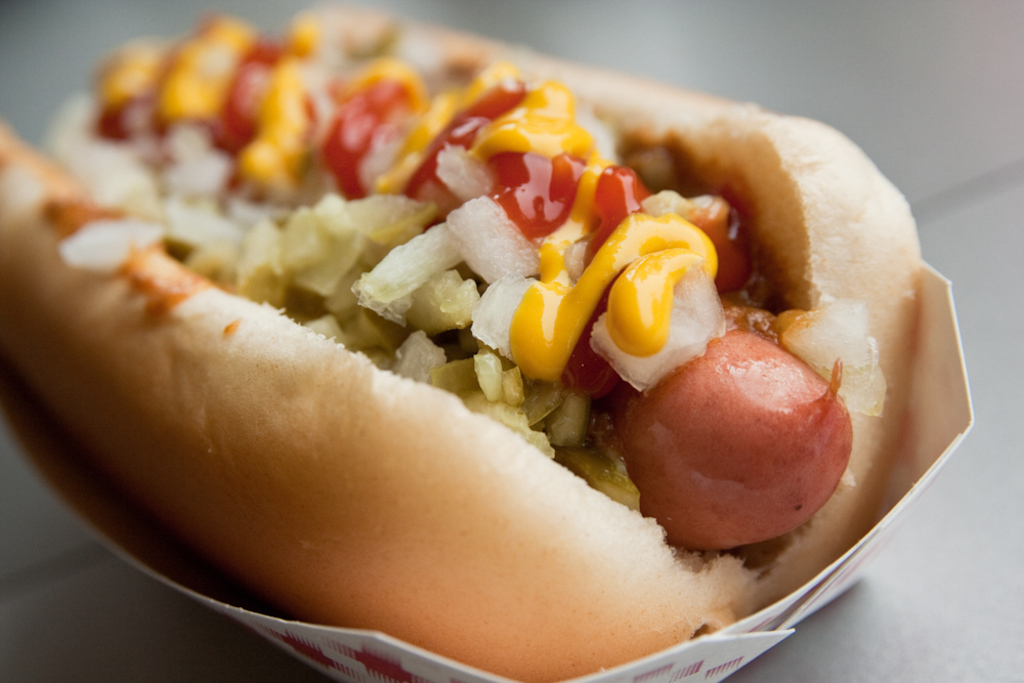sandwich: (0, 0, 925, 682)
